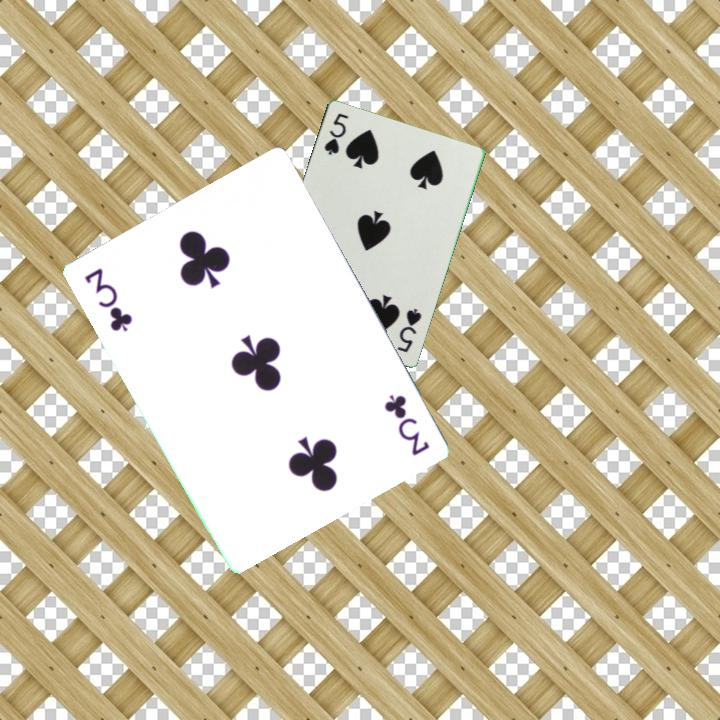3c: (80, 264, 135, 335), (379, 390, 432, 459)
5s: (393, 305, 425, 356), (321, 110, 352, 158)
